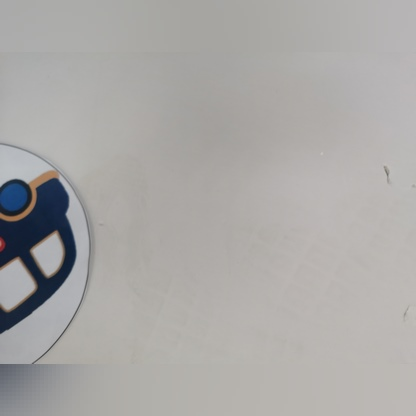car: (0, 134, 79, 357)
